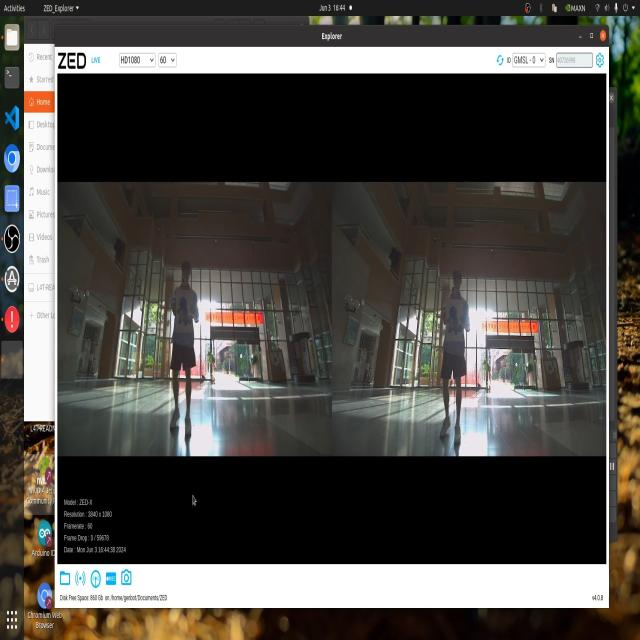blue: (173, 295, 196, 334), (447, 300, 462, 346)
